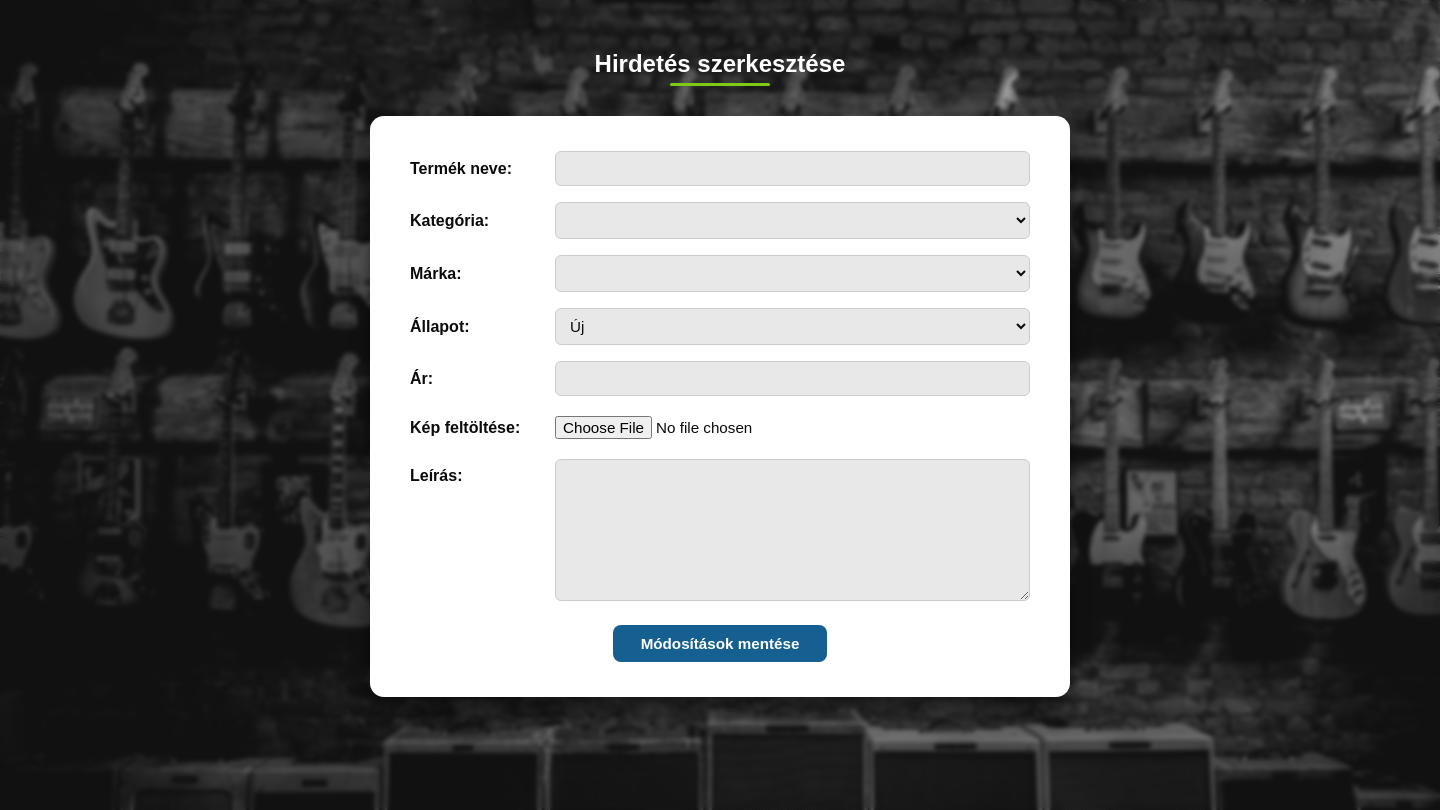
it: EditAd page behavior › validates required fields on submit
What coordinates should you click on to do the following:
click the button "Módosítások mentése"
I would click on:
 (720, 644)
Its box is [613,625,827,662].
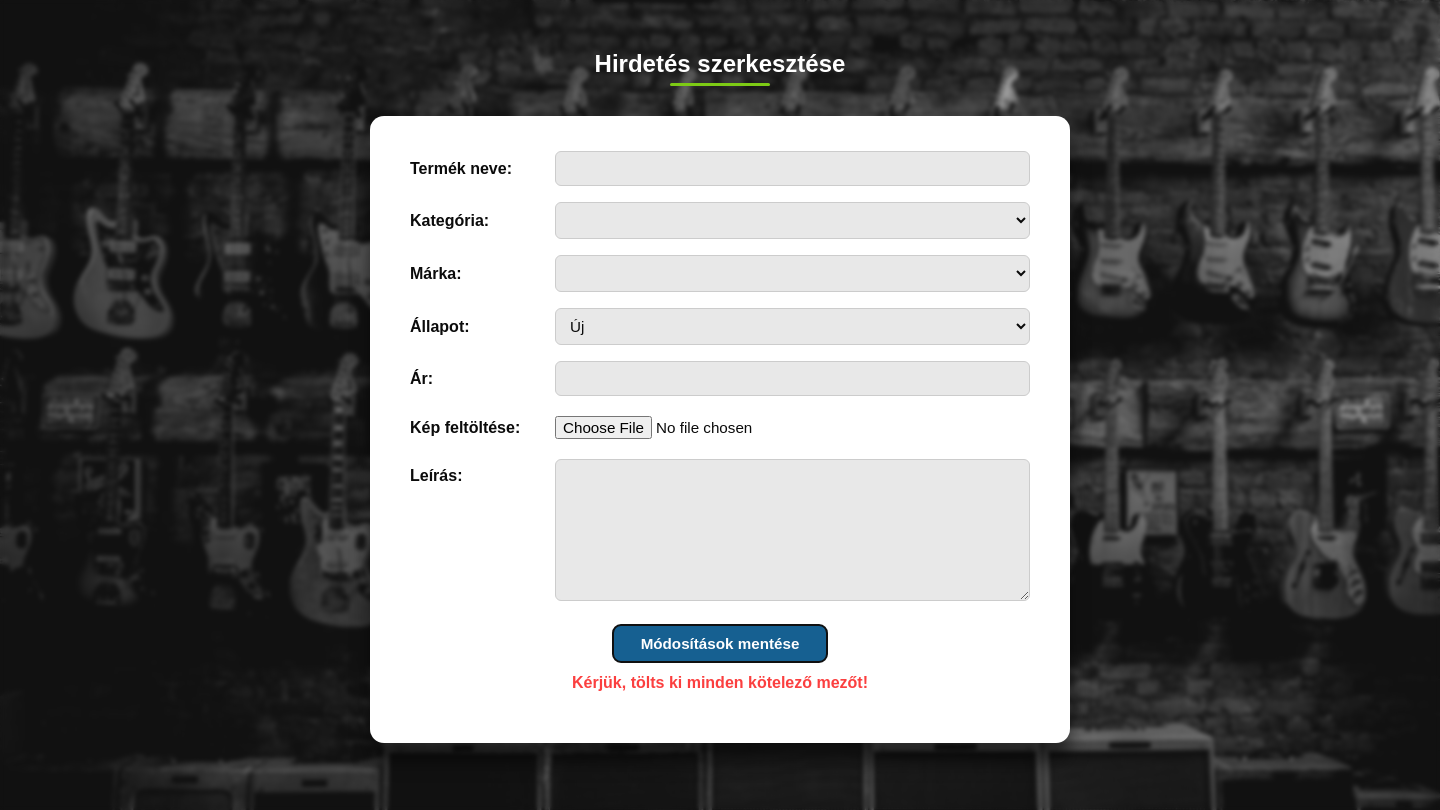
Expected: the text "Kérjük, tölts ki minden kötelező mezőt!" is shown, [572,674,868,691]
